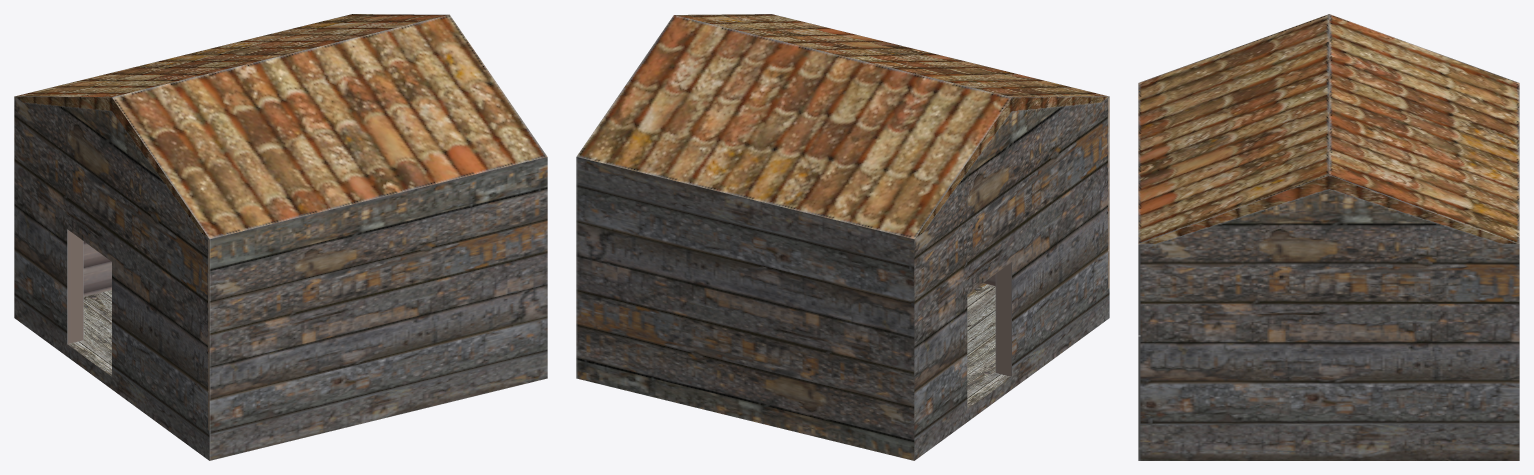
Rendered from House - Copy.fbx.
3 views of the same model, side by side, from view 1: azimuth 30°, elevation 25°; view 2: azimuth 150°, elevation 25°; view 3: azimuth 270°, elevation 25° (orthographic). The views are drawn at different scales.
Parts seen in each view (by area): view 1: pCube1; view 2: pCube1; view 3: pCube1.
Part boxes in pixels (bbox=[...]): pCube1: bbox=[14, 14, 547, 460]; pCube1: bbox=[576, 14, 1109, 460]; pCube1: bbox=[1138, 14, 1519, 460].
Bounding box in the file's own units: 5.29 × 4.37 × 5.29.
Materials: 1 (1 with a texture image).
